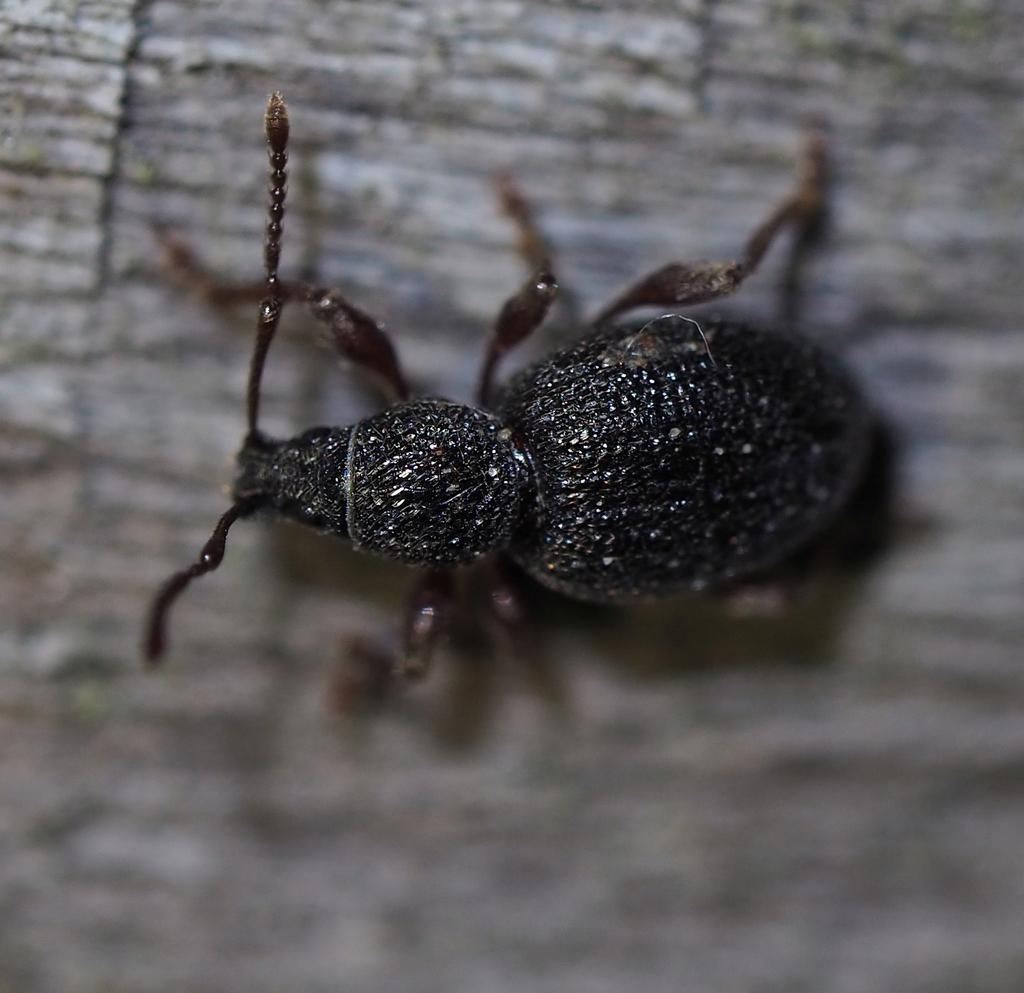weevils: (33, 40, 980, 800)
